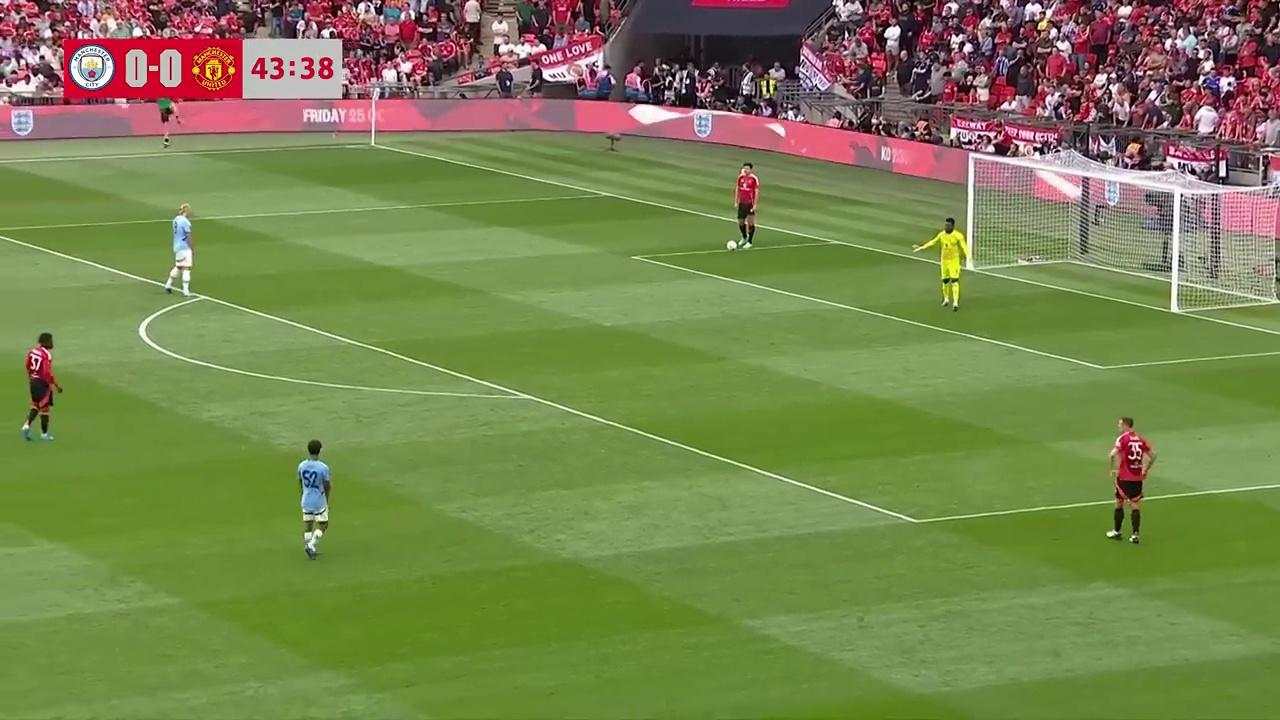ball: (725, 237, 737, 251)
player: (1106, 417, 1155, 543), (919, 217, 965, 310), (23, 332, 61, 442), (296, 440, 331, 558), (167, 203, 194, 297), (733, 162, 759, 248)
